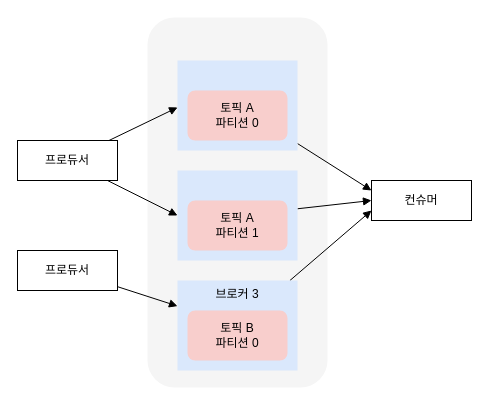
Some shapes in this 489 by 404 pixel diagram are drawn without their labels. The shapes that lost their labels are listed below. From the top down, each one's box as (x1, y1, x2, y2) in pixels, then its label:
(177, 60, 297, 150): 브로커 1
(147, 17, 327, 387): 카프카 클러스터
(177, 170, 297, 260): 브로커 2
